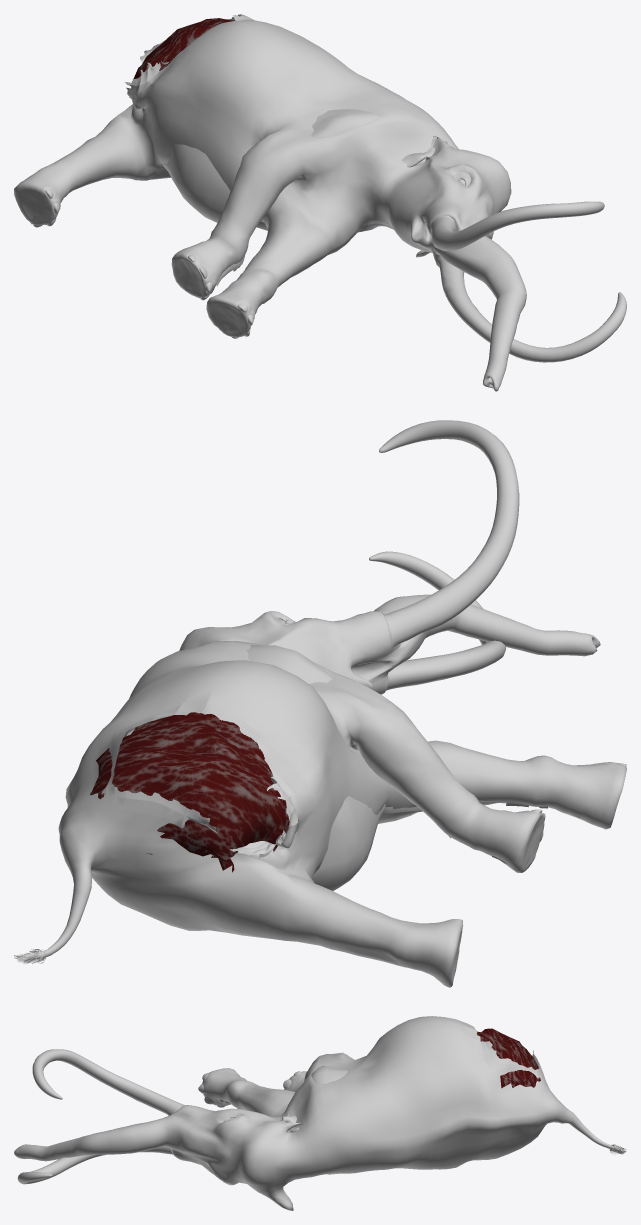
Rendered from BakedDeadMammoth.fbx.
The picture shows the model from 3 angles, top to bottom: view 1: azimuth 30°, elevation 25°; view 2: azimuth 150°, elevation 25°; view 3: azimuth 270°, elevation 25°; orthographic projection. The views are drawn at different scales.
Parts seen in each view (by area): view 1: Mammoth_Baked, GoreMammoth_Baked, Gore_Baked; view 2: Mammoth_Baked, Gore_Baked, GoreMammoth_Baked; view 3: Mammoth_Baked, Gore_Baked, GoreMammoth_Baked.
Part boxes in pixels (x1,y1,x2,y2): Mammoth_Baked: (14, 14, 626, 391); GoreMammoth_Baked: (162, 109, 428, 305); Gore_Baked: (132, 18, 235, 109); Mammoth_Baked: (14, 420, 626, 987); Gore_Baked: (90, 712, 298, 872); GoreMammoth_Baked: (123, 645, 579, 890); Mammoth_Baked: (14, 1016, 626, 1210); Gore_Baked: (476, 1028, 540, 1088); GoreMammoth_Baked: (220, 1065, 487, 1159).
Bounding box in the file's own units: 718 × 357 × 1352.
